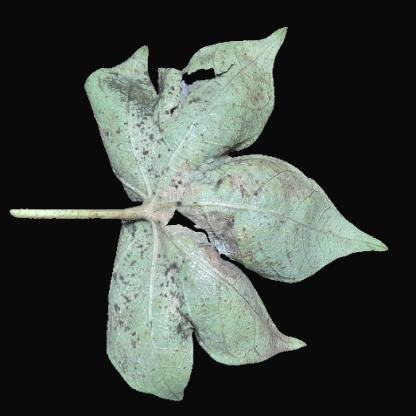curl_stage2: (217, 310, 268, 368), (289, 216, 343, 260), (261, 175, 311, 213), (208, 89, 242, 142), (150, 353, 190, 396), (248, 43, 277, 73)
sooty: (113, 88, 180, 189), (106, 230, 154, 358), (157, 259, 195, 341), (202, 168, 258, 200), (200, 217, 246, 255)
